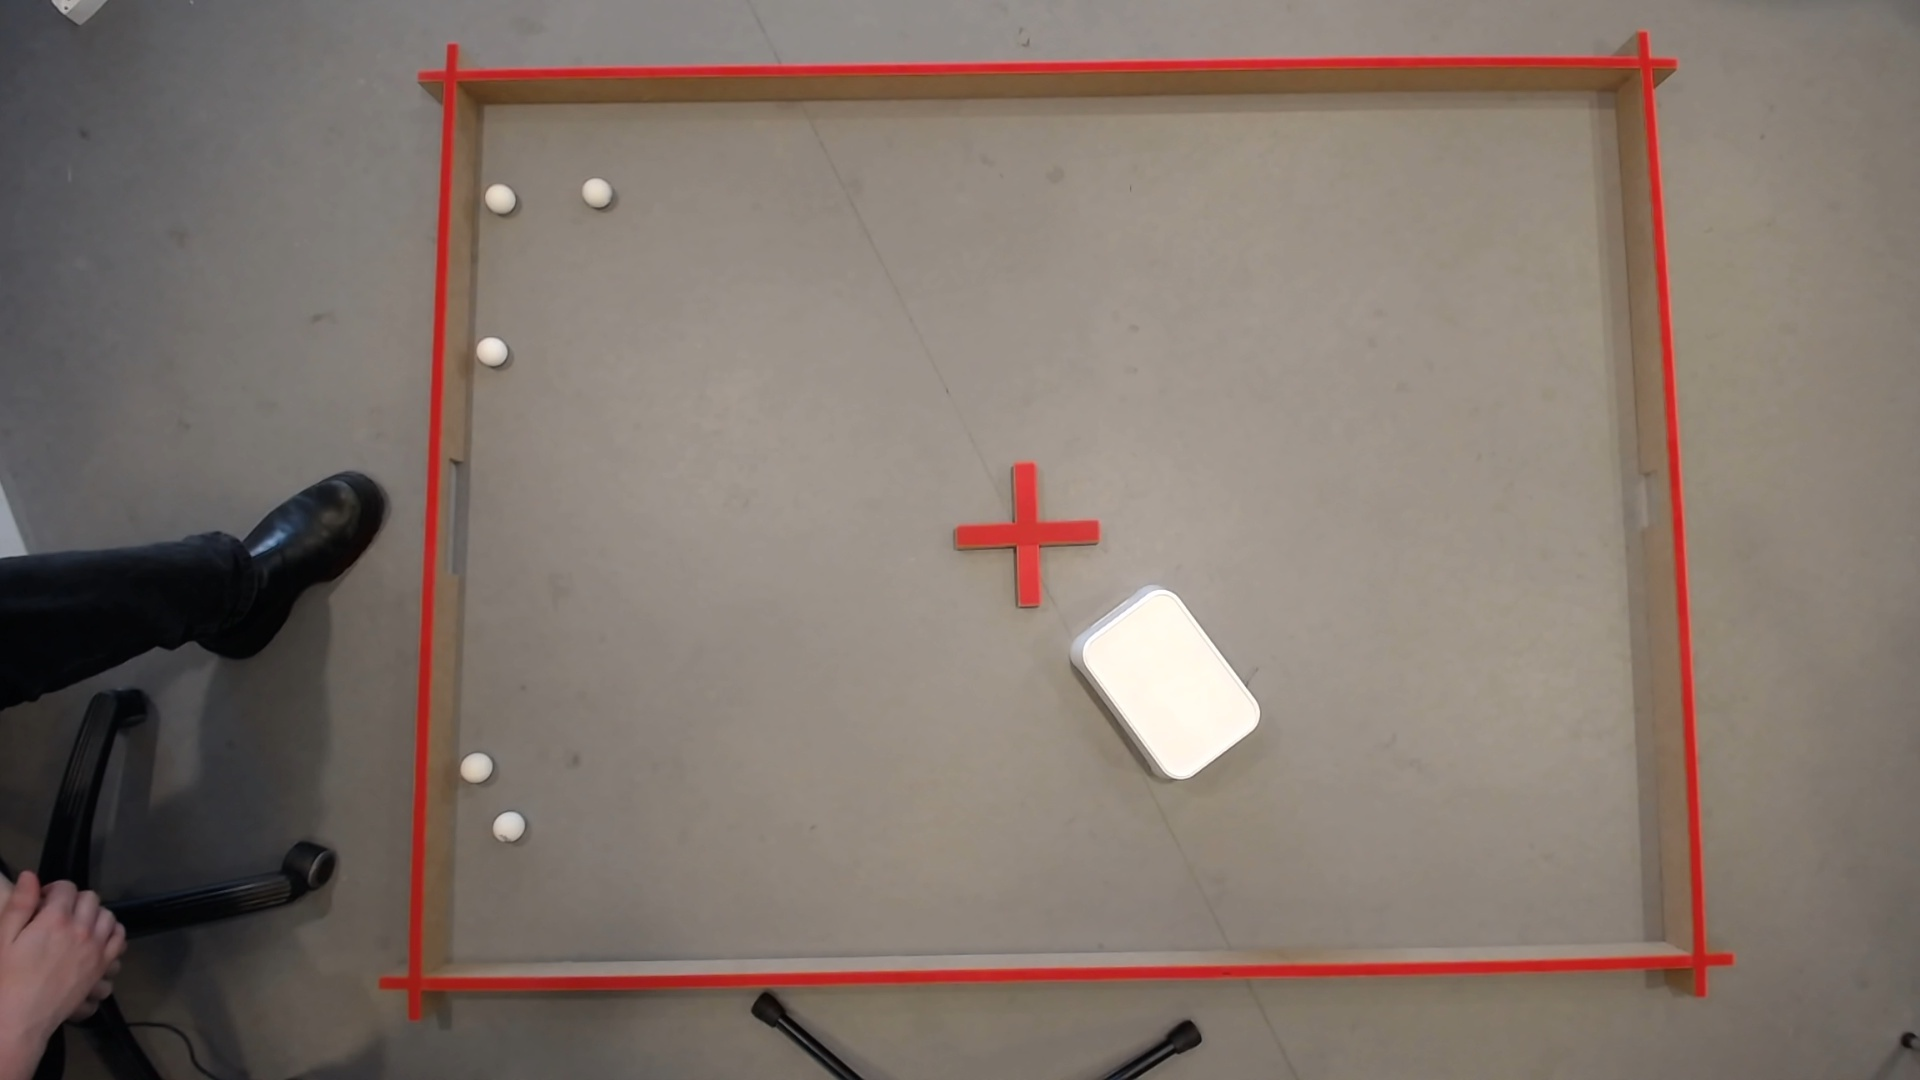balls: (1067, 572, 1269, 787), (477, 338, 505, 360), (493, 812, 520, 835), (464, 754, 488, 777), (487, 185, 512, 204)
car: (584, 179, 608, 199)
